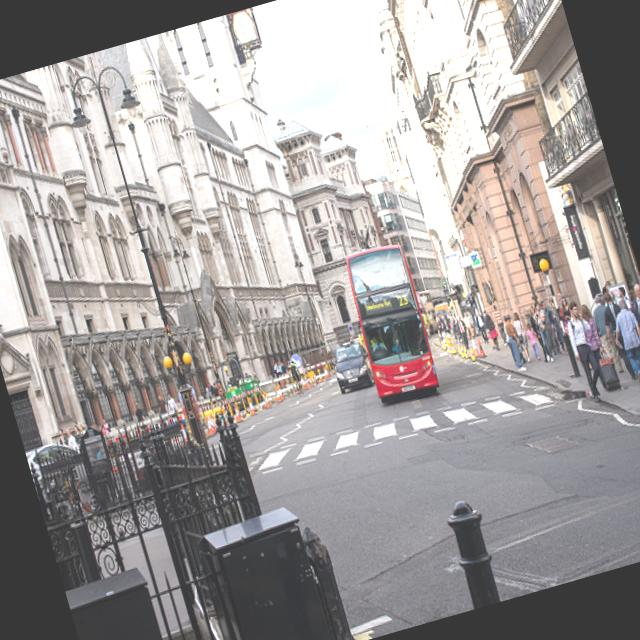Vehicle: (338, 242, 446, 408), (24, 435, 90, 503), (329, 340, 376, 395)
